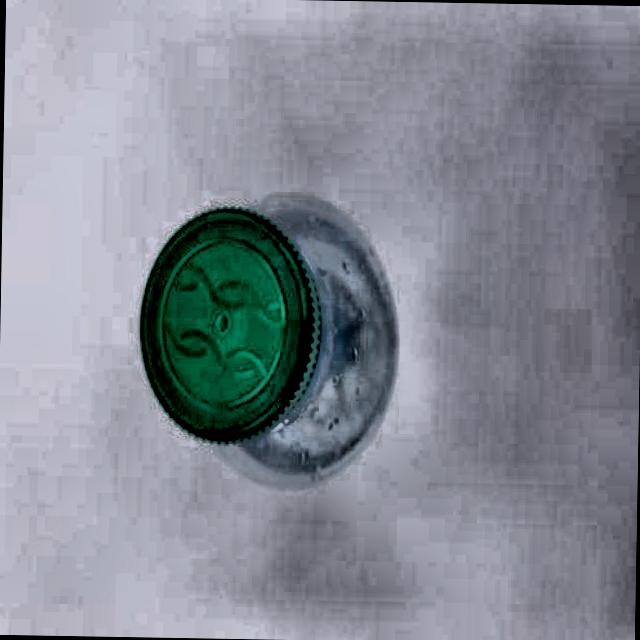plastic bottle: (139, 195, 398, 486)
